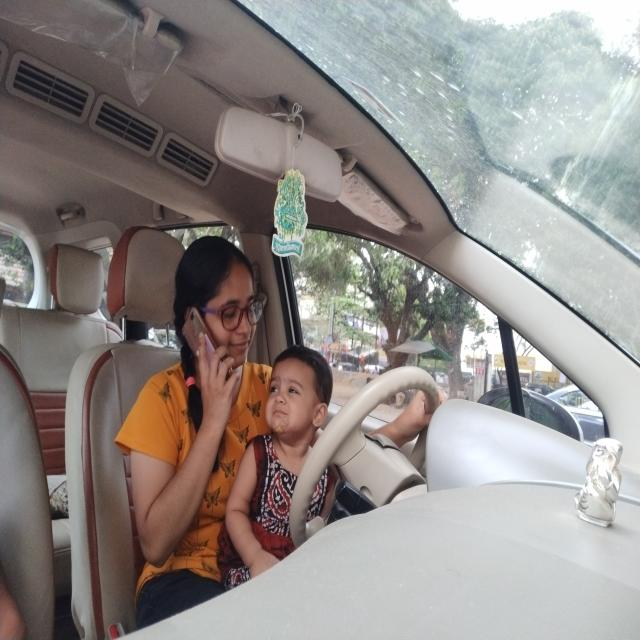child: (263, 345, 332, 447)
mobile: (180, 297, 229, 383)
person: (168, 236, 266, 376)
